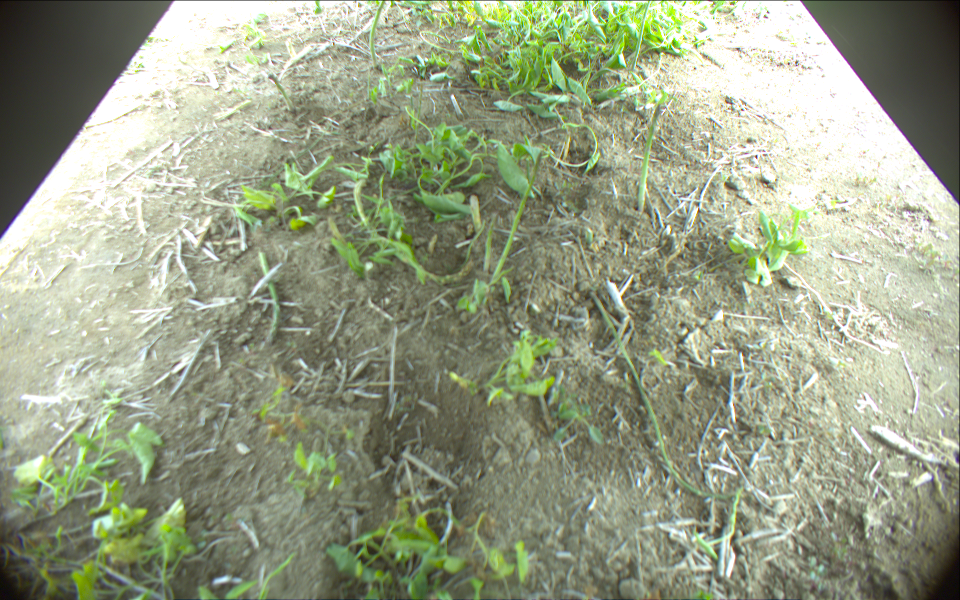aspa: (591, 291, 743, 500), (491, 150, 544, 285), (634, 104, 663, 212), (258, 251, 281, 344), (630, 1, 652, 70), (370, 1, 388, 67), (479, 216, 498, 272), (268, 74, 294, 110)
